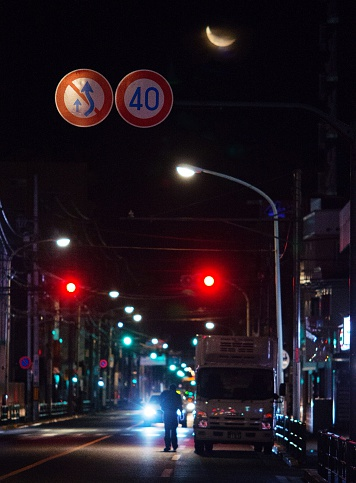em pe: (153, 379, 180, 444)
